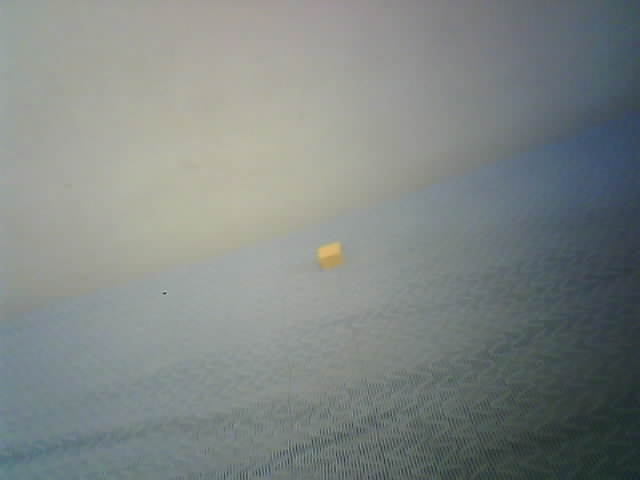lego: (316, 241, 344, 270)
